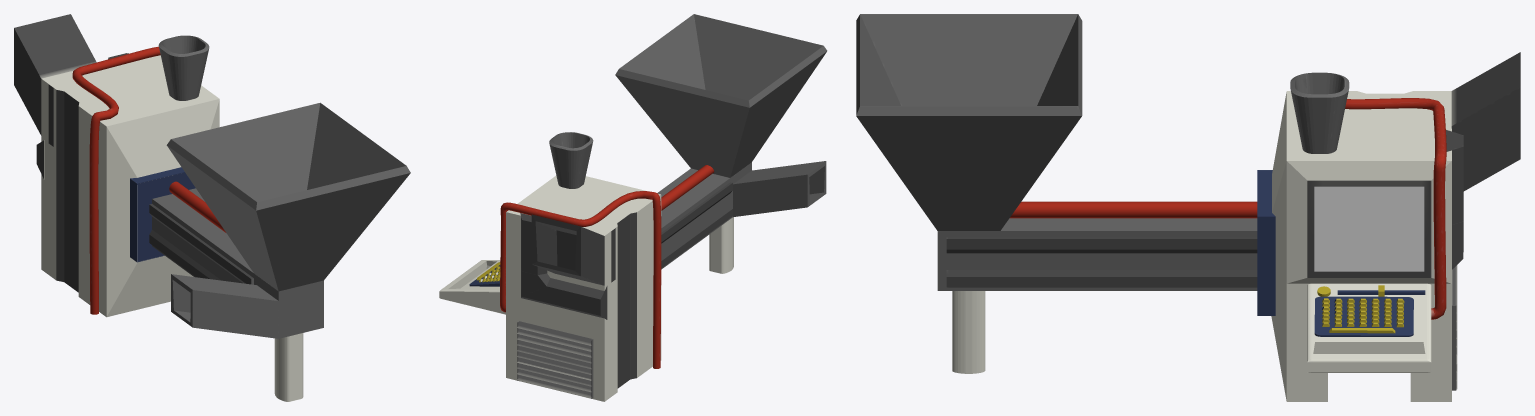
Rendered from dESGASTADORA.fbx.
The picture shows the model from 3 angles, left to right: view 1: azimuth 30°, elevation 25°; view 2: azimuth 150°, elevation 25°; view 3: azimuth 270°, elevation 25°; orthographic projection. The views are drawn at different scales.
Visible parts, largest first — view 1: Plane.001, Plane.004, Plane.003, Plane.006, Cube, Plane.002; view 2: Plane.001, Plane.004, Plane.006, Plane.003, Plane.002, Plane.005; view 3: Plane.001, Plane.004, Plane.006, Plane.003, Plane.005, Plane.002, Cube.
Boxes of the visible parts, bbox=[...] form: Plane.001: bbox=[36, 53, 323, 401]; Plane.004: bbox=[166, 102, 410, 291]; Plane.003: bbox=[14, 14, 96, 135]; Plane.006: bbox=[72, 46, 225, 314]; Cube: bbox=[130, 167, 195, 262]; Plane.002: bbox=[158, 35, 209, 100]; Plane.001: bbox=[439, 161, 826, 401]; Plane.004: bbox=[615, 14, 827, 177]; Plane.006: bbox=[500, 165, 714, 368]; Plane.003: bbox=[531, 214, 604, 285]; Plane.002: bbox=[549, 132, 593, 188]; Plane.005: bbox=[469, 262, 500, 286]; Plane.001: bbox=[937, 91, 1463, 401]; Plane.004: bbox=[856, 14, 1082, 230]; Plane.006: bbox=[1010, 98, 1446, 319]; Plane.003: bbox=[1451, 52, 1520, 191]; Plane.005: bbox=[1314, 285, 1425, 336]; Plane.002: bbox=[1290, 72, 1349, 153]; Cube: bbox=[1257, 170, 1275, 315].
Bounding box in the file's own units: 442 × 412 × 805.
3 materials, 2 textured.
